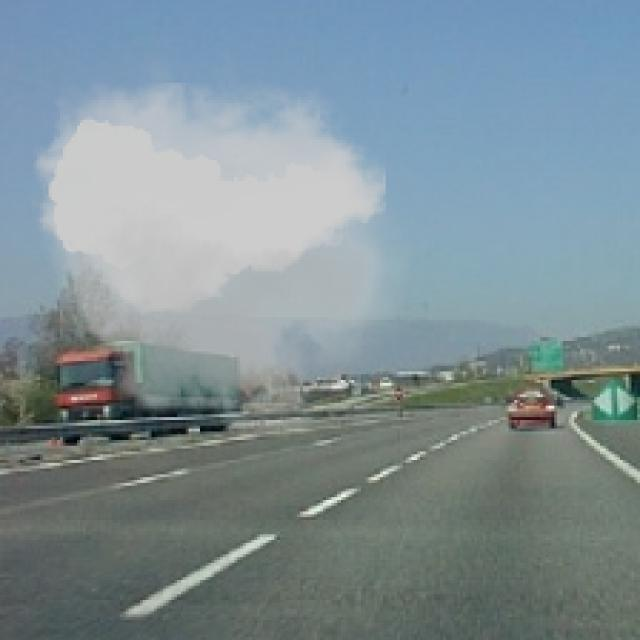Smoke: (22, 52, 412, 457)
